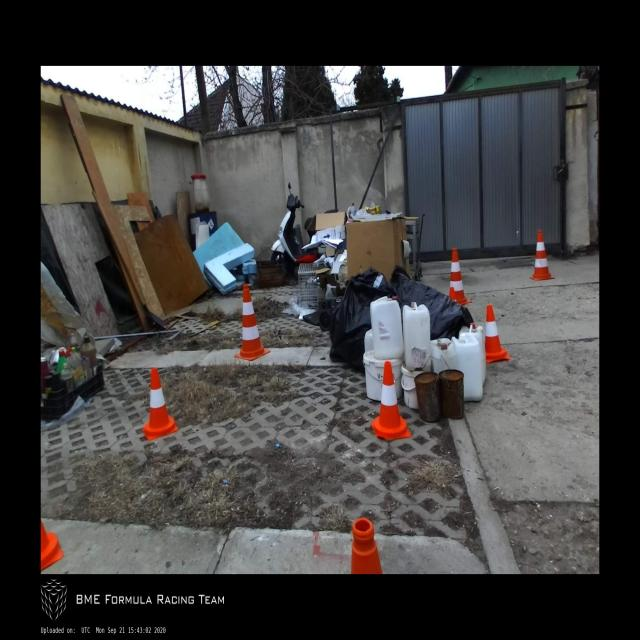large_orange_cone: (234, 284, 270, 360), (448, 248, 472, 307), (529, 230, 554, 280)
orange_cone: (371, 360, 410, 439), (142, 367, 178, 439), (484, 306, 510, 364)
